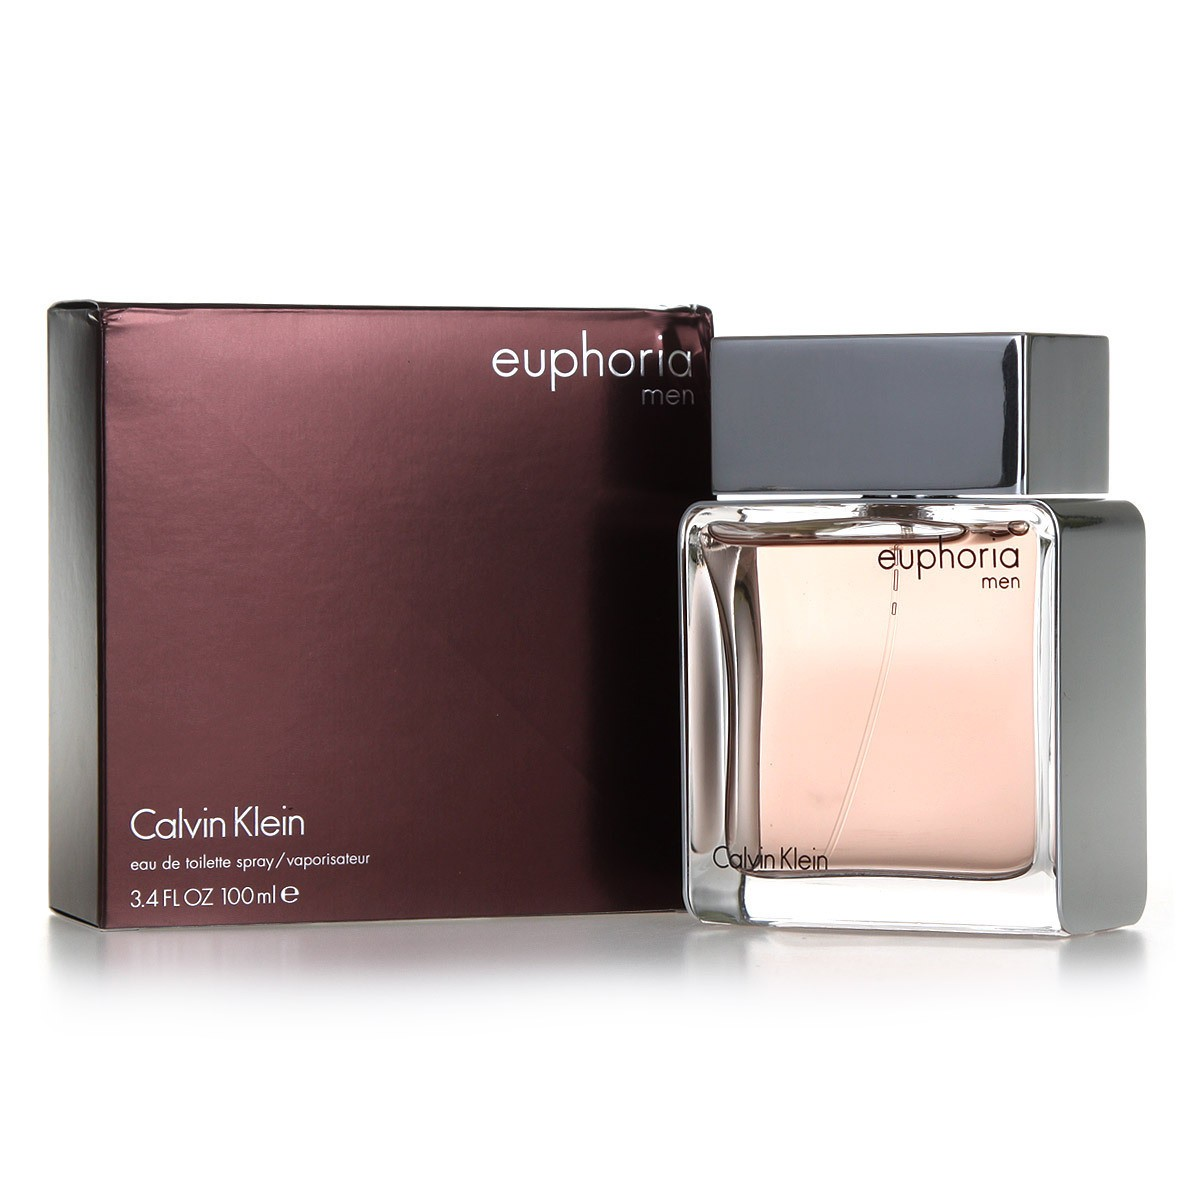Calvin Klein: (110, 785, 325, 849), (702, 827, 838, 884)
